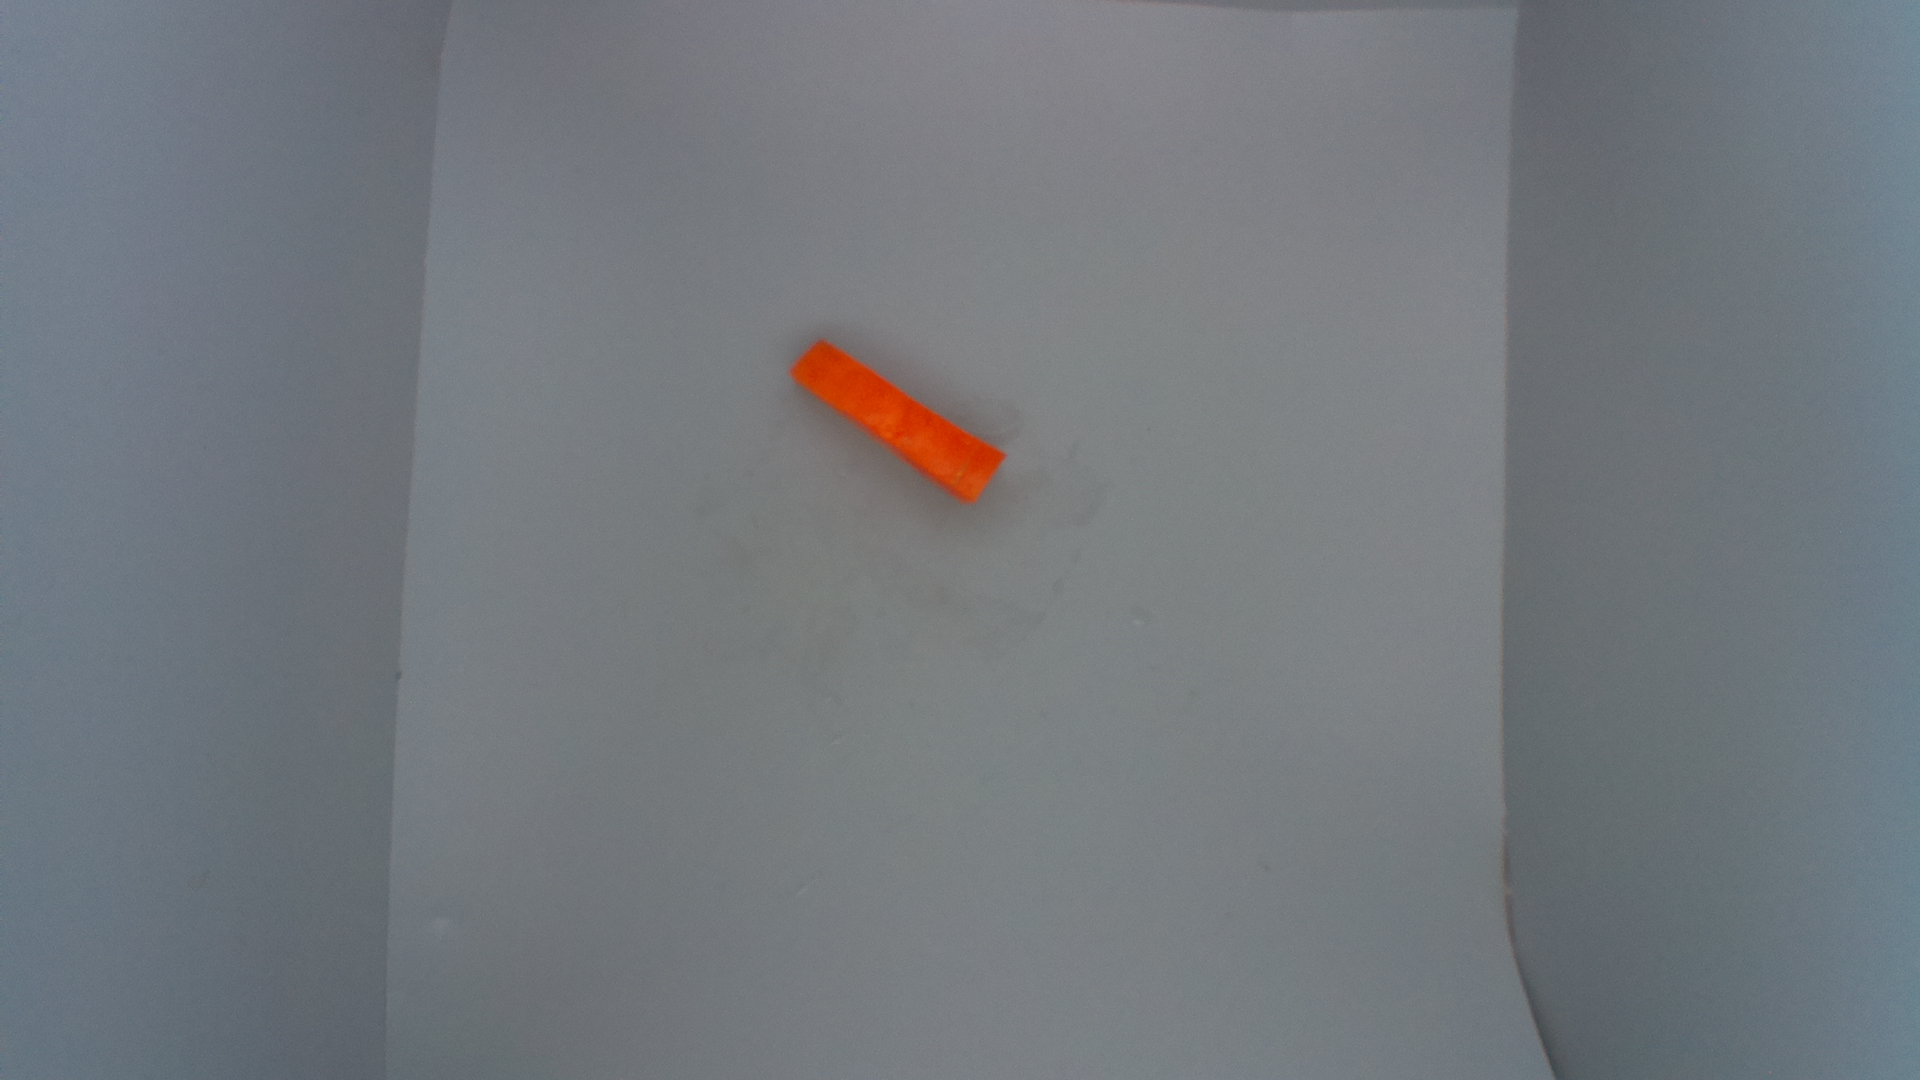carrot: (789, 339, 1011, 504)
